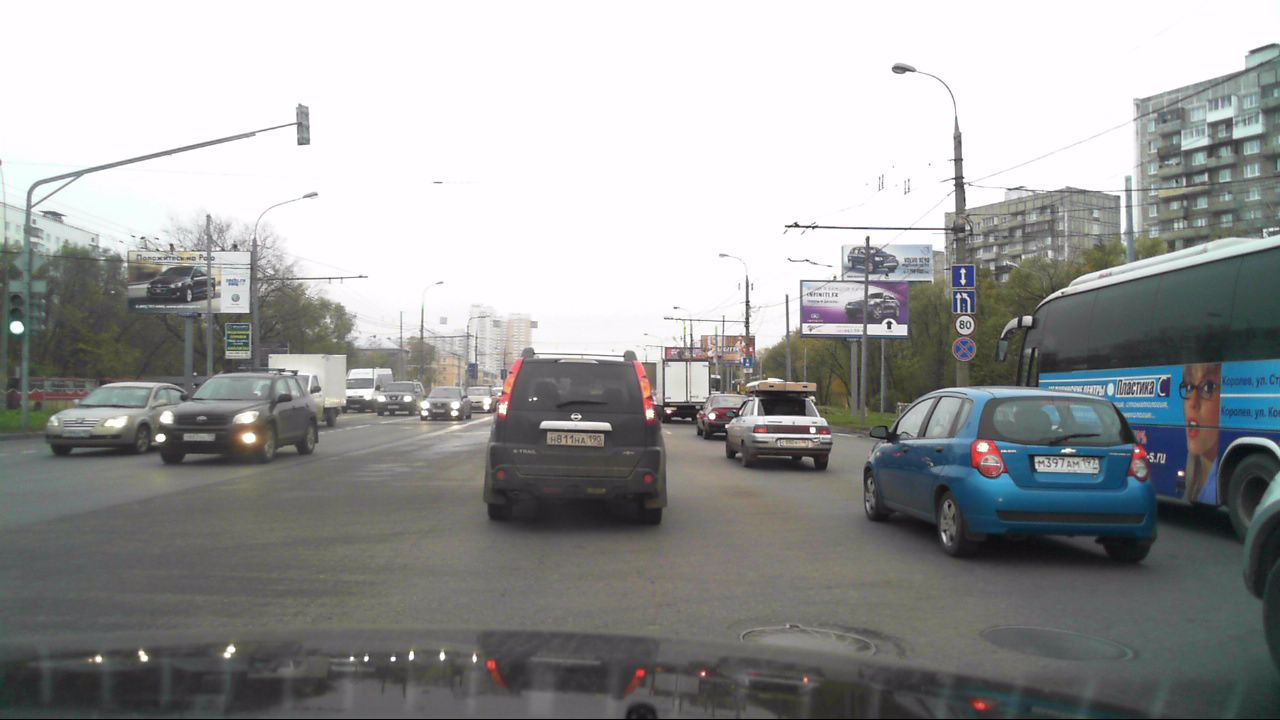No Parking: (950, 336, 976, 361)
